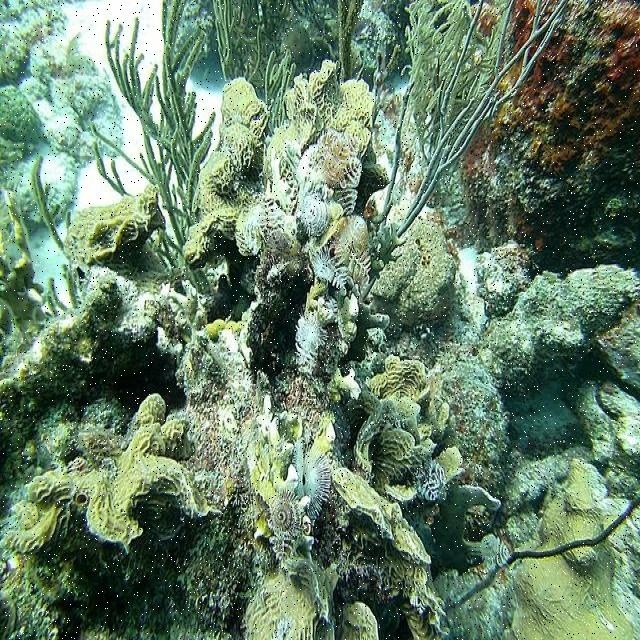sea-floor: (56, 1, 166, 168), (31, 160, 117, 307)
